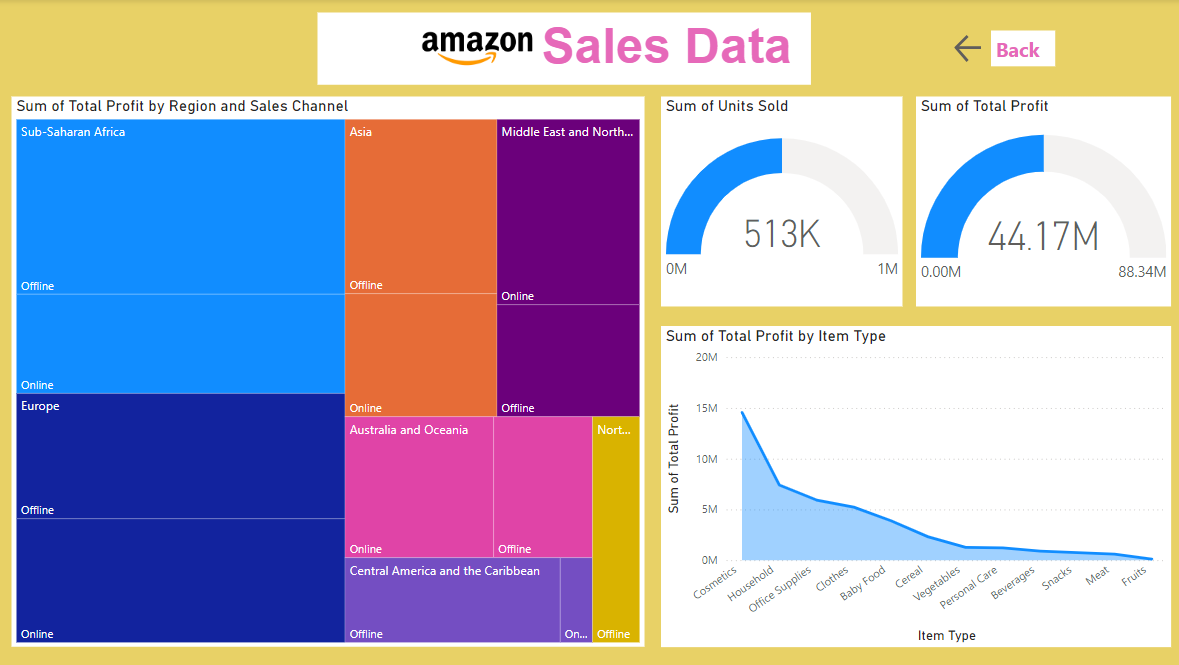

This screenshot's page, from the dashboard's own definition file:
{"tool":"powerbi","page":{"name":"Page 2","canvas":[1280,720],"ordinal":1},"visuals":[{"type":"textbox","box":[348.1,14.6,532.7,77.7],"z":0,"group":"g1"},{"type":"group","id":"g1","title":"Group 1","box":[348.1,14.6,532.7,77.7],"z":0},{"type":"image","box":[377.2,14.6,286.6,77.7],"z":1000,"group":"g1"},{"type":"treemap","fields":{"Group":["new_amazon_sales_data.Region"],"Values":["Sum(new_amazon_sales_data.Total Profit)"],"Details":["new_amazon_sales_data.Sales Channel"]},"box":[17.8,105.2,683.3,594.3],"z":1000},{"type":"gauge","fields":{"Y":["Sum(new_amazon_sales_data.Units Sold)"]},"box":[718.9,105.2,260.7,226.7],"z":2000},{"type":"gauge","fields":{"Y":["Sum(new_amazon_sales_data.Total Profit)"]},"box":[994.2,105.2,275.3,226.7],"z":3000},{"type":"stackedAreaChart","fields":{"Y":["Sum(new_amazon_sales_data.Total Profit)"],"Category":["new_amazon_sales_data.Item Type"]},"box":[718.9,353,550.5,346.5],"z":4000},{"type":"actionButton","box":[1031.4,34,63.1,38.9],"z":4001},{"type":"textbox","box":[1075.2,34,69.6,38.9],"z":4002}]}

Visuals, with their boxes in screenshot pixels (x1, y1, x2, y2), scaled from the page's 1280x720 canvas onto the 1179x665 screenshot:
textbox: (321,13,811,85)
"Group 1" group: (321,13,811,85)
image: (347,13,611,85)
treemap - new_amazon_sales_data.Region x Sum(new_amazon_sales_data.Total Profit): (16,97,646,646)
gauge - Sum(new_amazon_sales_data.Units Sold): (662,97,902,307)
gauge - Sum(new_amazon_sales_data.Total Profit): (916,97,1169,307)
stackedAreaChart - Sum(new_amazon_sales_data.Total Profit) x new_amazon_sales_data.Item Type: (662,326,1169,646)
actionButton: (950,31,1008,67)
textbox: (990,31,1054,67)
